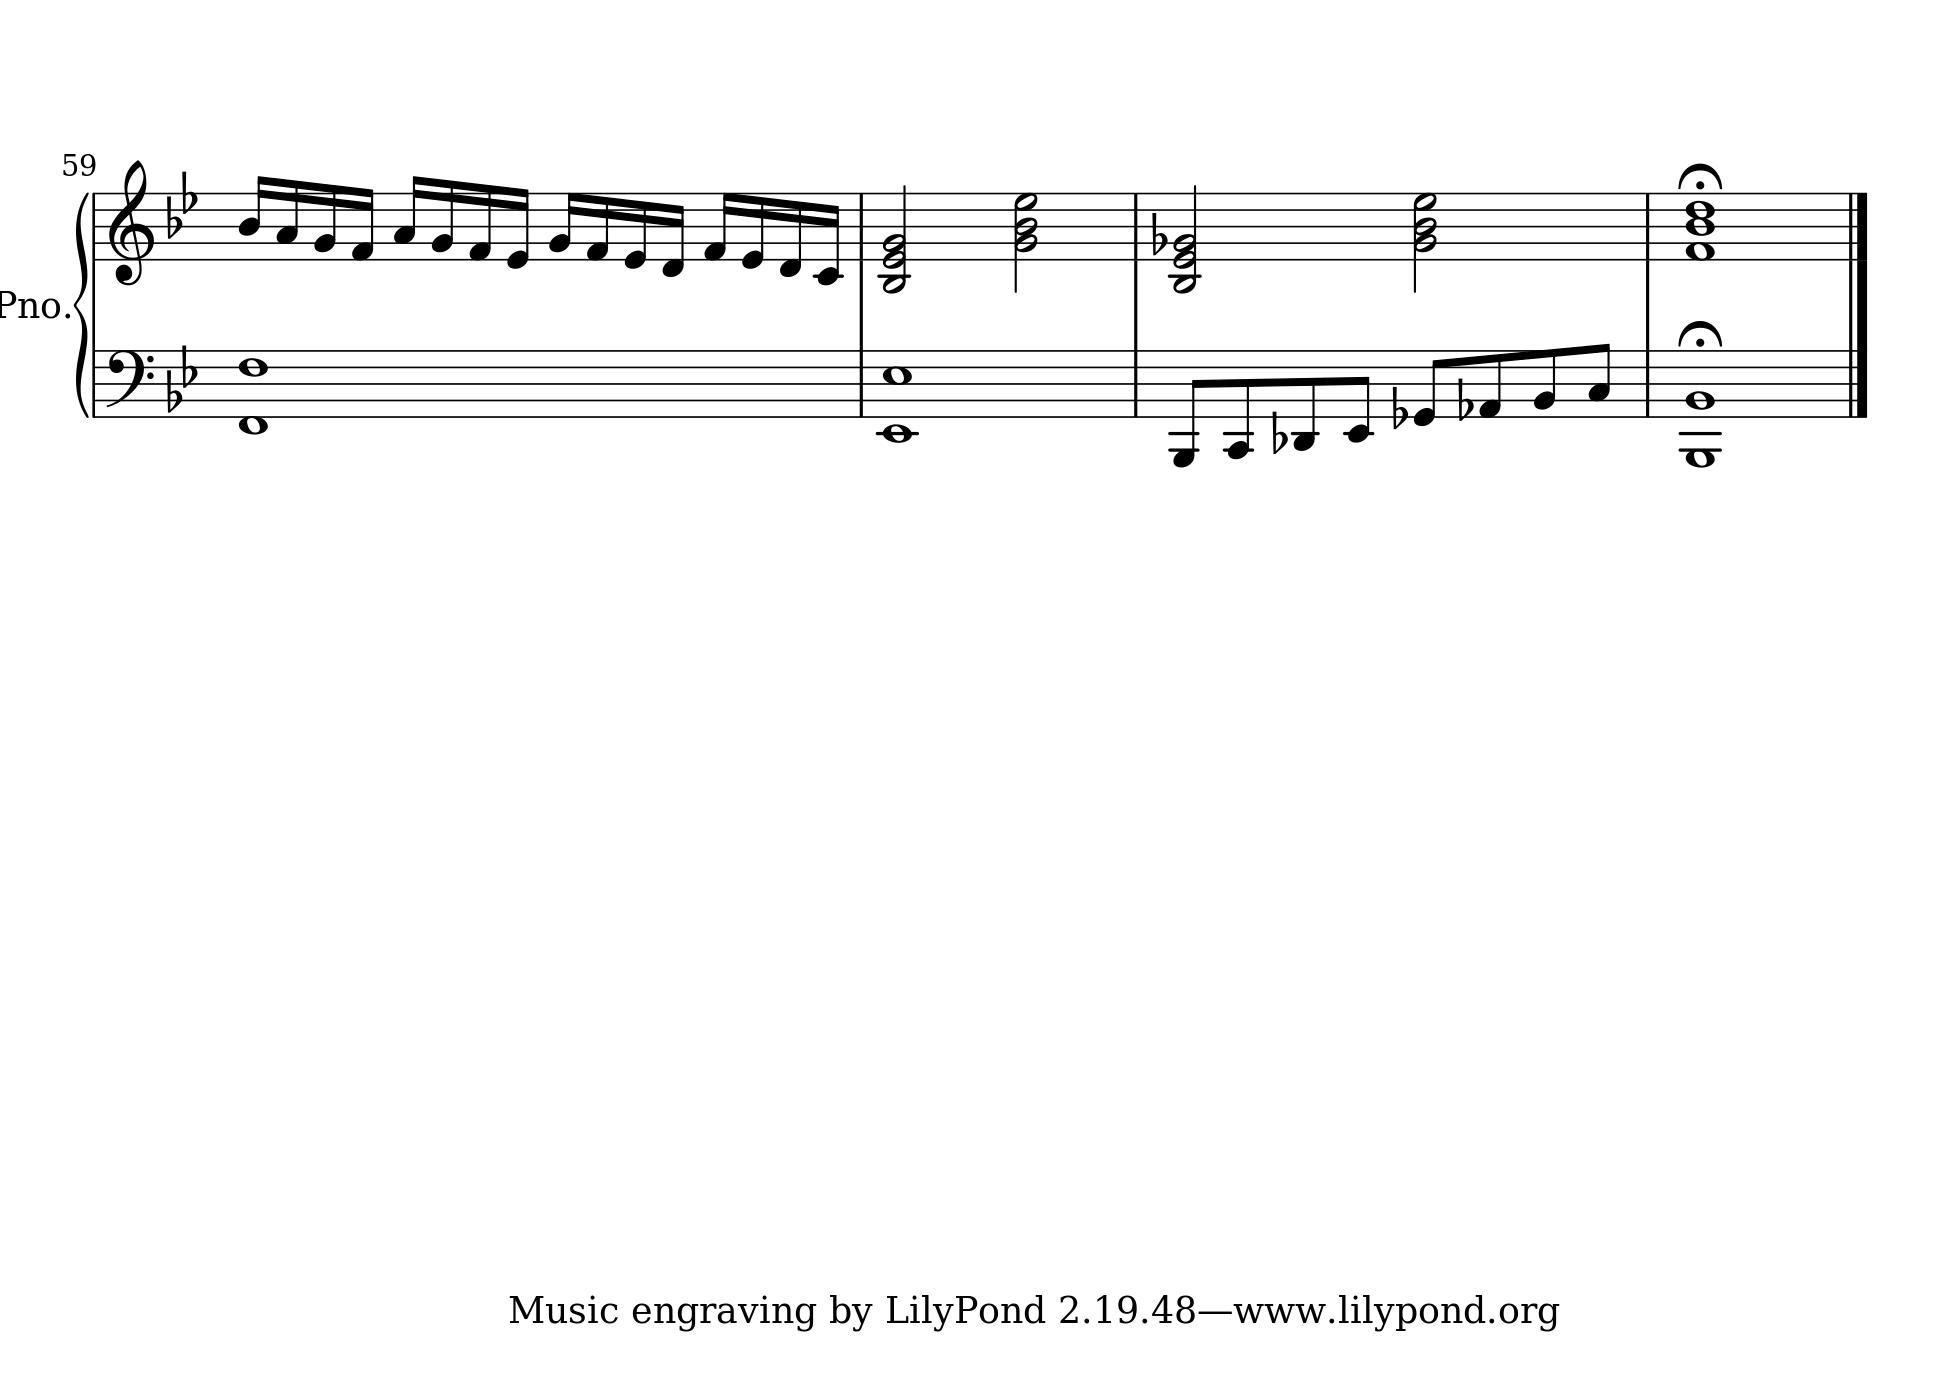16_-1: (658, 190, 687, 279), (777, 189, 804, 280)
16_-2: (814, 190, 841, 286)
16_0: (502, 184, 532, 271), (622, 190, 649, 271), (739, 190, 766, 270)
16_1: (702, 190, 733, 262), (346, 184, 375, 262), (466, 181, 493, 262), (583, 190, 612, 262)
16_2: (546, 190, 579, 262), (430, 177, 457, 262), (312, 181, 339, 262)
16_3: (390, 174, 426, 261), (274, 175, 301, 262)
16_4: (235, 172, 270, 261)
1_-1_6: (232, 348, 273, 439)
1_-2_5: (873, 348, 919, 445)
1_-5_2: (1680, 346, 1722, 474)
1_th: (1686, 190, 1716, 264)
2_th: (1170, 184, 1203, 295), (880, 184, 910, 295), (1411, 190, 1438, 292), (1012, 190, 1038, 292)
5: (61, 148, 78, 178)
8_-2: (1344, 346, 1375, 444)
8_-3: (1291, 346, 1320, 451)
8_-4: (1224, 345, 1254, 460)
8_-5: (1170, 346, 1206, 469)
8_0: (1413, 346, 1446, 427)
8_1: (1479, 346, 1506, 420)
8_2: (1533, 346, 1558, 420)
8_3: (1587, 340, 1611, 420)
9: (79, 148, 97, 178)
B_F: (165, 166, 199, 238), (165, 340, 198, 412)
Brace: (72, 187, 91, 420)
Fclef: (103, 349, 156, 412)
Fermata_above: (1677, 160, 1725, 192), (1677, 318, 1725, 349)
Final_barline: (1845, 190, 1872, 259), (1843, 349, 1869, 417)
Flat: (1389, 384, 1410, 430), (1455, 375, 1474, 423), (1149, 208, 1168, 253), (1270, 409, 1288, 454)
Gclef: (106, 157, 157, 286)
Pno: (1, 288, 61, 319)
Single_barline: (1128, 193, 1146, 259), (1639, 193, 1657, 258), (853, 349, 870, 418), (852, 192, 868, 259), (1128, 349, 1144, 415), (88, 192, 102, 259), (88, 349, 102, 415)
